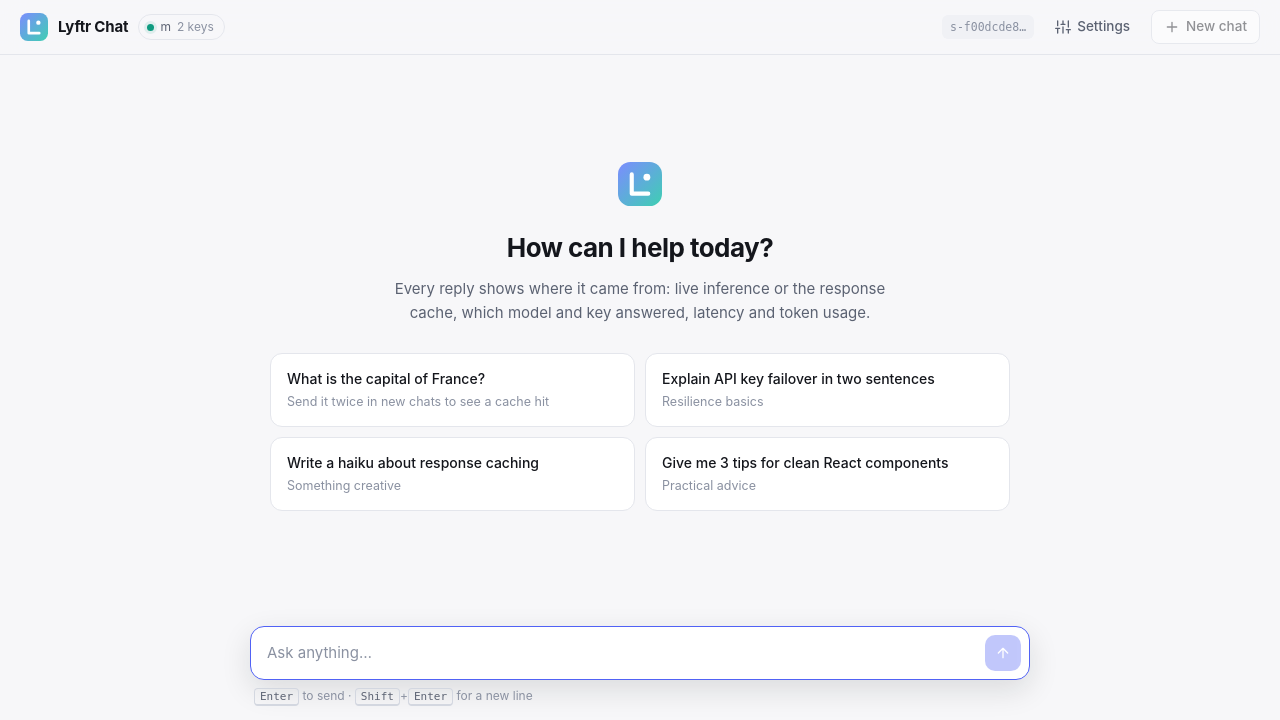
App › shows a readable error for a 503 and can retry
Type "hi" into the text box with test id "chat-input" at x=622, y=654, box x1=267 y1=636 x2=977 y2=671
Then press Enter
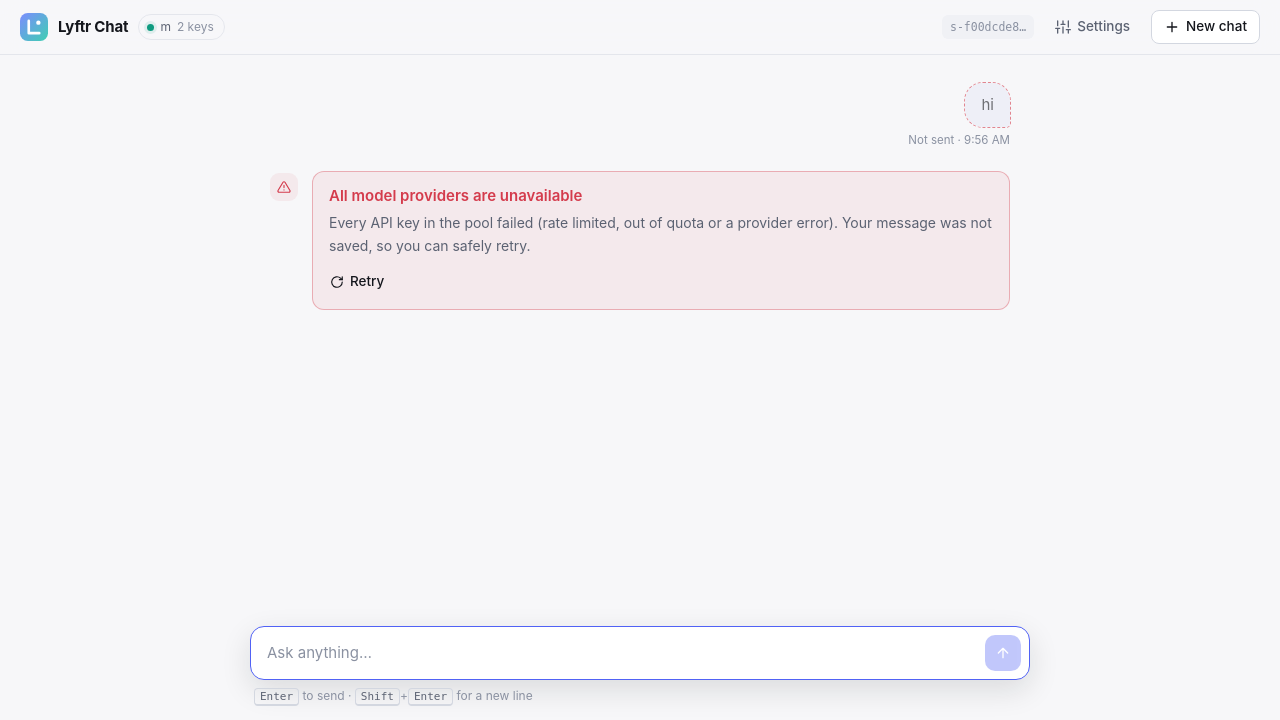
Expected: the message with test id "error-message" shows "All model providers are unavailable", x1=329 y1=186 x2=582 y2=205
Click the button "Retry" at x=357, y=282, box x1=319 y1=267 x2=395 y2=297
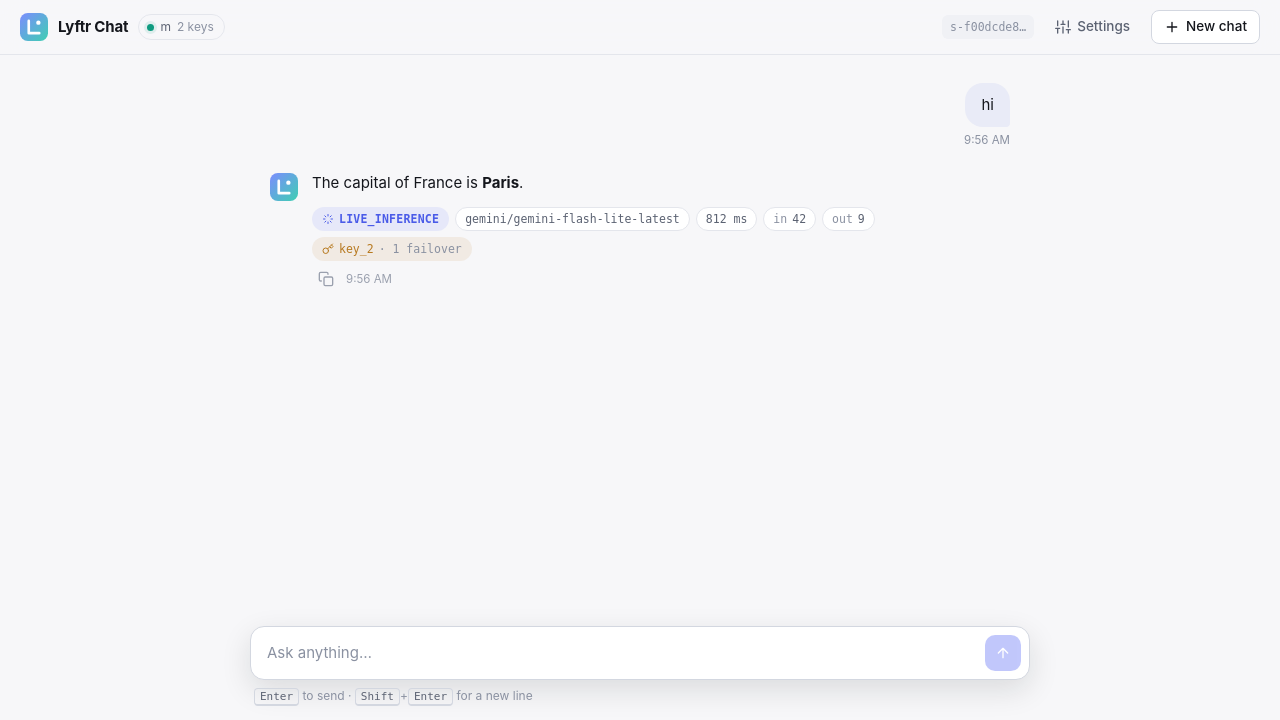
Expected: the number of elements with test id "user-message" is 1, x1=966 y1=83 x2=1010 y2=127
Expected: the element with test id "assistant-message" is shown, x1=312 y1=173 x2=875 y2=293
Expected: the message with test id "error-message" is gone
